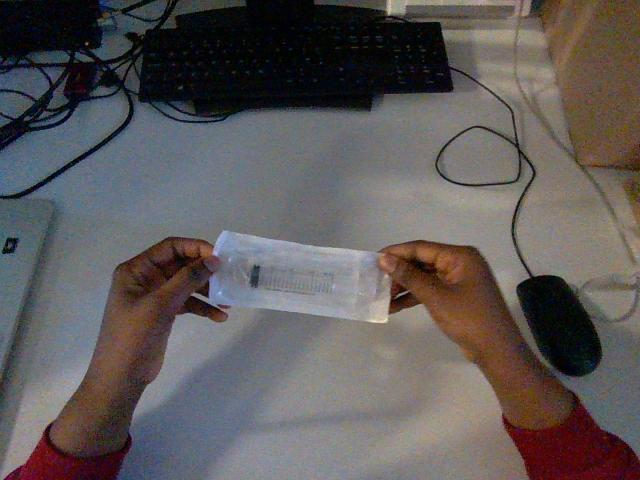syringe: (209, 231, 390, 322)
